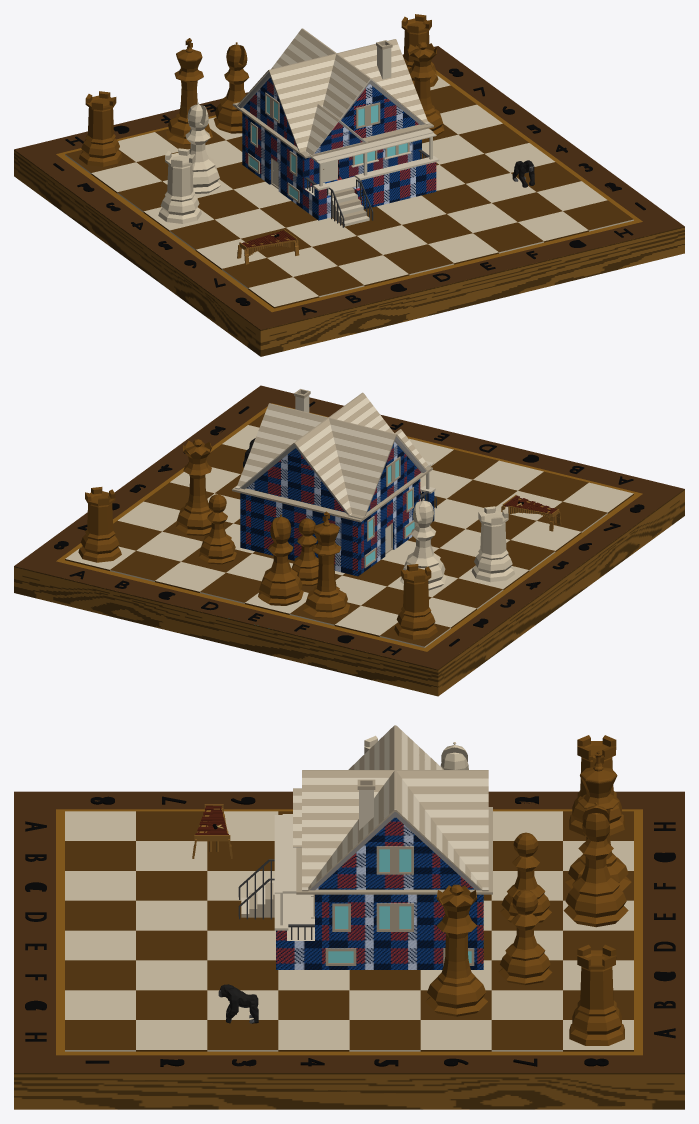
The picture shows the model from 3 angles, top to bottom: view 1: azimuth 30°, elevation 25°; view 2: azimuth 150°, elevation 25°; view 3: azimuth 270°, elevation 25°; orthographic projection. The views are drawn at different scales.
Visible parts, largest first — view 1: Cube.002, Cube.171, OBJRANDOM_MARIMBA; view 2: Cube.002, Cube.171, OBJRANDOM_MARIMBA; view 3: Cube.002, Cube.171, OBJRANDOM_MARIMBA, ANIMAL_GORILA.
Boxes of the visible parts, <box> form: Cube.002: <box>14,14,684,356</box>; Cube.171: <box>232,28,439,227</box>; OBJRANDOM_MARIMBA: <box>237,229,299,264</box>; Cube.002: <box>14,385,684,696</box>; Cube.171: <box>232,389,436,576</box>; OBJRANDOM_MARIMBA: <box>501,495,561,531</box>; Cube.002: <box>14,735,684,1109</box>; Cube.171: <box>238,725,492,969</box>; OBJRANDOM_MARIMBA: <box>192,804,232,858</box>; ANIMAL_GORILA: <box>218,984,258,1023</box>.
Size of the model in its own units: 3981 by 1462 by 4012.
27 materials, 3 textured.
